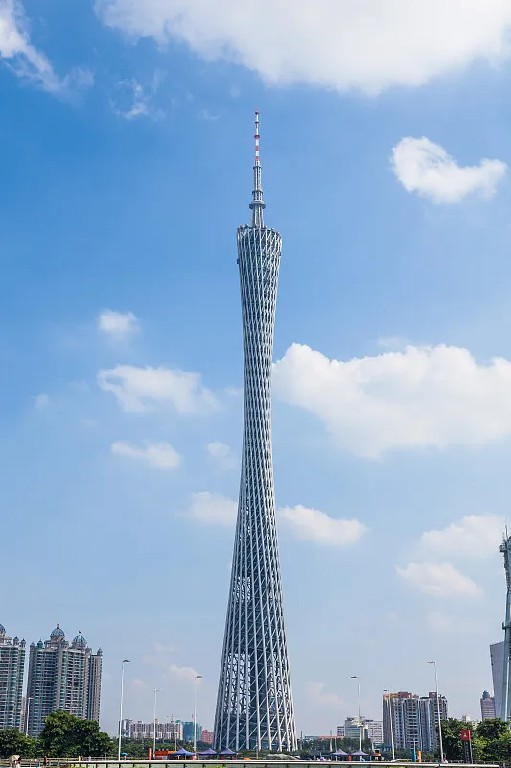Canton: (213, 113, 298, 753)
